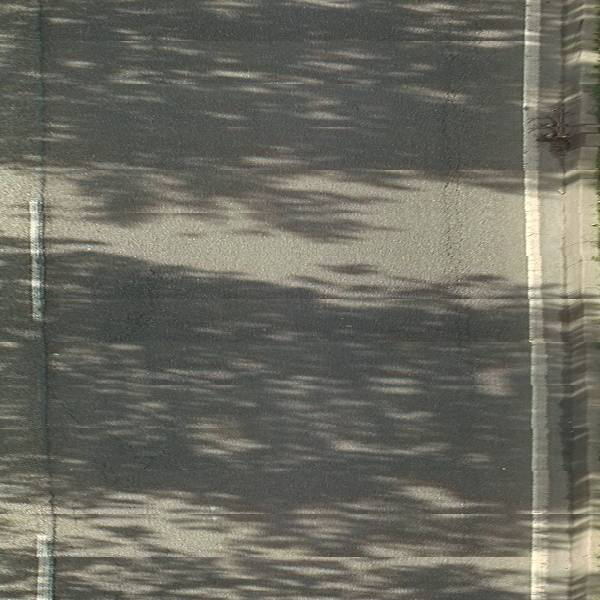road_damage: (438, 130, 471, 318), (35, 184, 54, 494)
